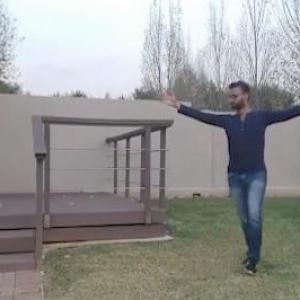takeoff: (154, 77, 299, 280)
